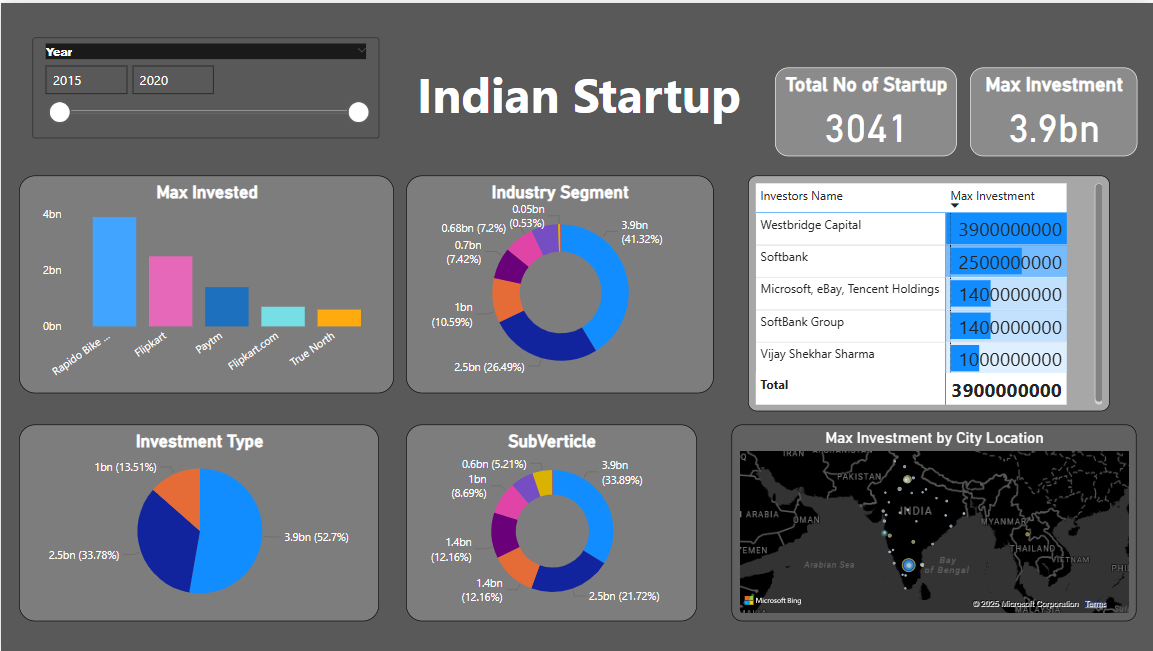

Layout of this report page (visuals, bound fields, positions):
{"tool":"powerbi","page":{"name":"Page 1","canvas":[1280,720],"ordinal":0},"visuals":[{"type":"card","title":"Total No of Startup","fields":{"Values":["startup_funding.Total No of StartUp"]},"box":[859.9,71.5,201.9,98.5],"z":0},{"type":"card","title":"Max Investment ","fields":{"Values":["startup_funding.Max Investment"]},"box":[1076,71.5,186,98.5],"z":1000},{"type":"clusteredColumnChart","title":"Max Invested ","fields":{"Category":["startup_funding.Startup Name"],"Y":["startup_funding.Max Investment"]},"box":[20,191.7,416.7,241.7],"z":2000},{"type":"donutChart","title":"Industry Segment  ","fields":{"Category":["startup_funding.Industry Vertical"],"Y":["startup_funding.Max Investment"]},"box":[450,191.7,341.7,241.7],"z":3000},{"type":"pieChart","title":"Investment Type ","fields":{"Category":["startup_funding.InvestmentnType"],"Y":["startup_funding.Max Investment"]},"box":[20,468.3,400,218.3],"z":4000},{"type":"donutChart","title":"SubVerticle ","fields":{"Category":["startup_funding.SubVertical"],"Y":["startup_funding.Max Investment"]},"box":[450,468.3,323.3,218.3],"z":5000},{"type":"pivotTable","fields":{"Values":["startup_funding.Max Investment"],"Rows":["startup_funding.Investors Name"]},"box":[830,191.7,401.7,261.7],"z":6000},{"type":"slicer","fields":{"Values":["startup_funding.Date dd/mm/yyyy.Variation.Date Hierarchy.Year"]},"box":[35,38.3,385,111.7],"z":7000},{"type":"textbox","box":[449.8,60.4,398.9,101.7],"z":8000},{"type":"map","fields":{"Category":["startup_funding.City  Location"],"Size":["startup_funding.Max Investment"]},"box":[811.7,468.3,450,218.3],"z":9000}]}

Visuals, with their boxes in screenshot pixels (x1, y1, x2, y2), scaled from the page's 1280x720 canvas onto the 1153x651 screenshot:
"Total No of Startup" card: left=775, top=65, right=956, bottom=154
"Max Investment " card: left=969, top=65, right=1137, bottom=154
"Max Invested " clusteredColumnChart: left=18, top=173, right=393, bottom=392
"Industry Segment  " donutChart: left=405, top=173, right=713, bottom=392
"Investment Type " pieChart: left=18, top=423, right=378, bottom=621
"SubVerticle " donutChart: left=405, top=423, right=697, bottom=621
pivotTable - startup_funding.Max Investment x startup_funding.Investors Name: left=748, top=173, right=1109, bottom=410
slicer - startup_funding.Date dd/mm/yyyy.Variation.Date Hierarchy.Year: left=32, top=35, right=378, bottom=136
textbox: left=405, top=55, right=764, bottom=147
map - startup_funding.City  Location x startup_funding.Max Investment: left=731, top=423, right=1137, bottom=621
